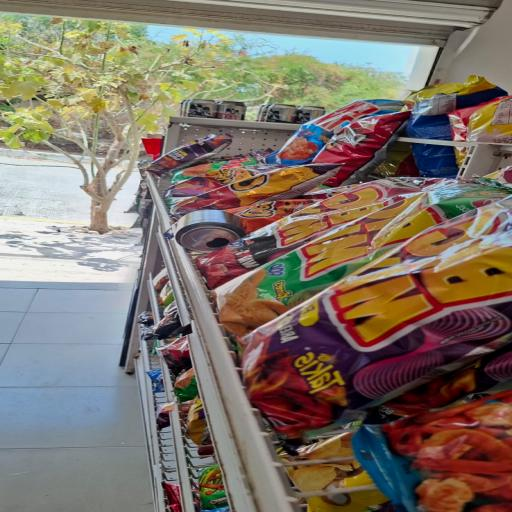LATA: (169, 204, 255, 252)
